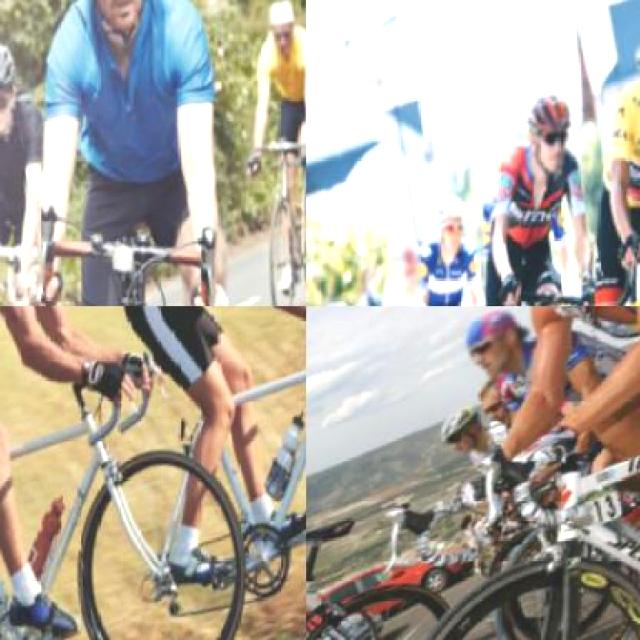With Helmet: (448, 306, 554, 400), (515, 82, 597, 202), (0, 35, 40, 154), (49, 0, 183, 35), (438, 402, 504, 472), (428, 187, 487, 265), (260, 0, 305, 83), (391, 236, 442, 304), (354, 278, 411, 304), (324, 292, 368, 305)
